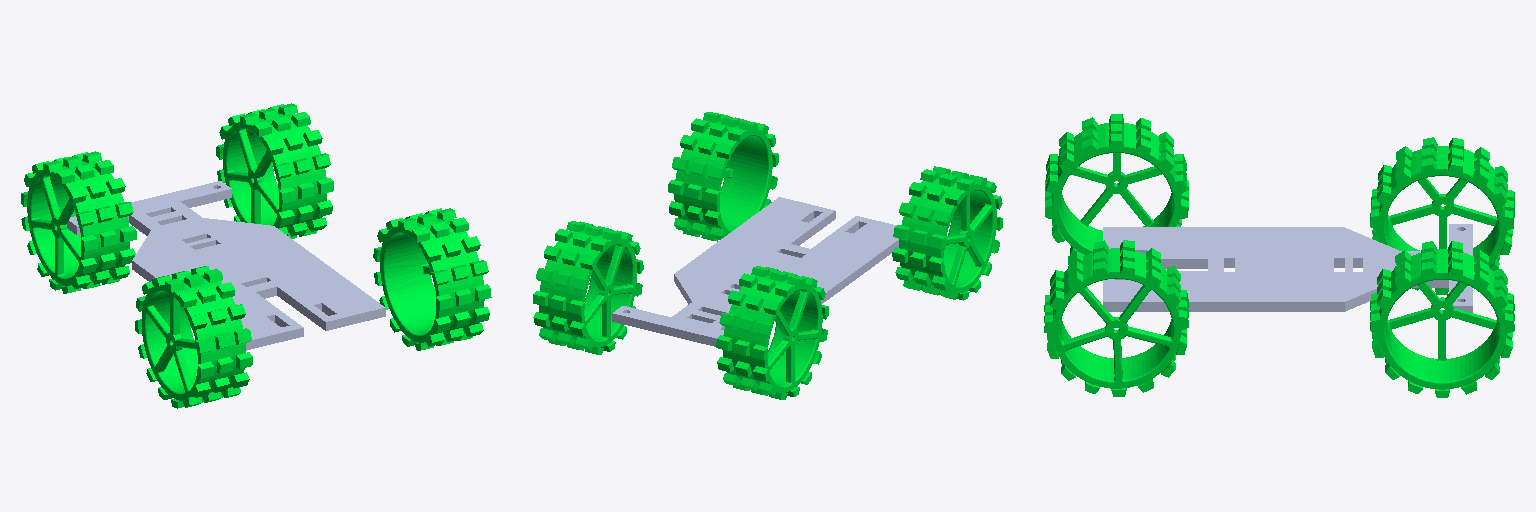
The robot description file, URDF, robot "main_car":
<?xml version="1.0" encoding="utf-8"?>
<!-- This URDF was automatically created by SolidWorks to URDF Exporter! Originally created by Stephen Brawner (brawner@gmail.com) 
     Commit Version: 1.6.0-4-g7f85cfe  Build Version: 1.6.7995.38578
     For more information, please see http://wiki.ros.org/sw_urdf_exporter -->
<robot
  name="main_car">
  <link
    name="base_link">
    <inertial>
      <origin
        xyz="0.0527910074654357 0.0895412065193495 0.0546228756098573"
        rpy="0 0 0" />
      <mass
        value="0.58722731346914" />
      <inertia
        ixx="0.00329941636083391"
        ixy="-3.23221668544828E-08"
        ixz="-3.9626268200619E-10"
        iyy="0.000709920106006346"
        iyz="3.41899882366905E-05"
        izz="0.00286505065874297" />
    </inertial>
    <visual>
      <origin
        xyz="0 0 0"
        rpy="0 0 0" />
      <geometry>
        <mesh
          filename="package://main_car/meshes/base_link.STL" />
      </geometry>
      <material
        name="">
        <color
          rgba="0.792156862745098 0.819607843137255 0.933333333333333 1" />
      </material>
    </visual>
    <collision>
      <origin
        xyz="0 0 0"
        rpy="0 0 0" />
      <geometry>
        <mesh
          filename="package://main_car/meshes/base_link.STL" />
      </geometry>
    </collision>
  </link>
  <link
    name="front_left_wheel_rot">
    <inertial>
      <origin
        xyz="0.0140059336705226 -0.000298132524582467 2.01352007983546E-11"
        rpy="0 0 0" />
      <mass
        value="0.0632357163080549" />
      <inertia
        ixx="9.1908554611613E-05"
        ixy="-8.09825499877721E-07"
        ixz="1.20157582111866E-14"
        iyy="5.3881091035979E-05"
        iyz="2.79976255176767E-14"
        izz="5.38638529333492E-05" />
    </inertial>
    <visual>
      <origin
        xyz="0 0 0"
        rpy="0 0 0" />
      <geometry>
        <mesh
          filename="package://main_car/meshes/front_left_wheel_rot.STL" />
      </geometry>
      <material
        name="">
        <color
          rgba="0 0.96078431372549 0.298039215686275 1" />
      </material>
    </visual>
    <collision>
      <origin
        xyz="0 0 0"
        rpy="0 0 0" />
      <geometry>
        <mesh
          filename="package://main_car/meshes/front_left_wheel_rot.STL" />
      </geometry>
    </collision>
  </link>
  <joint
    name="front_left_wheel_rot_j"
    type="continuous">
    <origin
      xyz="-0.0212429479041969 0.211254558119221 0.0117"
      rpy="0 0 0" />
    <parent
      link="base_link" />
    <child
      link="front_left_wheel_rot" />
    <axis
      xyz="0.999773526729787 -0.0212813357260371 0" />
  </joint>
  <link
    name="front_right_wheel_rot">
    <inertial>
      <origin
        xyz="-0.0140091063539903 3.84884682902431E-07 2.00286228574376E-11"
        rpy="0 0 0" />
      <mass
        value="0.063235716308098" />
      <inertia
        ixx="9.19257926635391E-05"
        ixy="-1.04565885374145E-09"
        ixz="-1.11206332803865E-14"
        iyy="5.38638529486252E-05"
        iyz="2.78948552972781E-14"
        izz="5.3863852984284E-05" />
    </inertial>
    <visual>
      <origin
        xyz="0 0 0"
        rpy="0 0 0" />
      <geometry>
        <mesh
          filename="package://main_car/meshes/front_right_wheel_rot.STL" />
      </geometry>
      <material
        name="">
        <color
          rgba="0 0.96078431372549 0.298039215686275 1" />
      </material>
    </visual>
    <collision>
      <origin
        xyz="0 0 0"
        rpy="0 0 0" />
      <geometry>
        <mesh
          filename="package://main_car/meshes/front_right_wheel_rot.STL" />
      </geometry>
    </collision>
  </link>
  <joint
    name="front_right_wheel_rot_j"
    type="continuous">
    <origin
      xyz="0.131001462865903 0.210751140085241 0.0117"
      rpy="0 0 0" />
    <parent
      link="base_link" />
    <child
      link="front_right_wheel_rot" />
    <axis
      xyz="0.999773526729787 -0.0212813357260373 0" />
  </joint>
  <link
    name="back_right_wheel_rot">
    <inertial>
      <origin
        xyz="-0.0140091063592719 2.58138736081159E-11 2.29399832463173E-12"
        rpy="0 0 0" />
      <mass
        value="0.0632357163080608" />
      <inertia
        ixx="9.19257927908156E-05"
        ixy="-2.17957699494684E-14"
        ixz="3.00941144706054E-15"
        iyy="5.38638530150891E-05"
        iyz="3.81958524520263E-15"
        izz="5.38638529876316E-05" />
    </inertial>
    <visual>
      <origin
        xyz="0 0 0"
        rpy="0 0 0" />
      <geometry>
        <mesh
          filename="package://main_car/meshes/back_right_wheel_rot.STL" />
      </geometry>
      <material
        name="">
        <color
          rgba="0 0.96078431372549 0.298039215686275 1" />
      </material>
    </visual>
    <collision>
      <origin
        xyz="0 0 0"
        rpy="0 0 0" />
      <geometry>
        <mesh
          filename="package://main_car/meshes/back_right_wheel_rot.STL" />
      </geometry>
    </collision>
  </link>
  <joint
    name="back_right_wheel_rot_j"
    type="continuous">
    <origin
      xyz="0.166149999999796 0.00849999999999998 0.0147"
      rpy="0 0 0" />
    <parent
      link="base_link" />
    <child
      link="back_right_wheel_rot" />
    <axis
      xyz="1 0 0" />
  </joint>
  <link
    name="back_left_wheel_rot">
    <inertial>
      <origin
        xyz="0.0140091063592776 2.88698388112296E-11 -1.99776098441795E-11"
        rpy="0 0 0" />
      <mass
        value="0.0632357163080669" />
      <inertia
        ixx="9.19257927875312E-05"
        ixy="2.78834430123702E-14"
        ixz="-1.11056897698667E-14"
        iyy="5.38638529869603E-05"
        iyz="-1.47196585190975E-17"
        izz="5.38638530124792E-05" />
    </inertial>
    <visual>
      <origin
        xyz="0 0 0"
        rpy="0 0 0" />
      <geometry>
        <mesh
          filename="package://main_car/meshes/back_left_wheel_rot.STL" />
      </geometry>
      <material
        name="">
        <color
          rgba="0 0.96078431372549 0.298039215686275 1" />
      </material>
    </visual>
    <collision>
      <origin
        xyz="0 0 0"
        rpy="0 0 0" />
      <geometry>
        <mesh
          filename="package://main_car/meshes/back_left_wheel_rot.STL" />
      </geometry>
    </collision>
  </link>
  <joint
    name="back_left_wheel_rot_j"
    type="continuous">
    <origin
      xyz="-0.0488500000002041 0.00849999999999978 0.0147000000000001"
      rpy="0 0 0" />
    <parent
      link="base_link" />
    <child
      link="back_left_wheel_rot" />
    <axis
      xyz="1 0 0" />
  </joint>
  <link
    name="front_left_wheel_steer">
    <inertial>
      <origin
        xyz="0.0140059336705226 -0.00029813252458244 2.01352007983546E-11"
        rpy="0 0 0" />
      <mass
        value="0.0632357163080549" />
      <inertia
        ixx="9.1908554611613E-05"
        ixy="-8.09825499877721E-07"
        ixz="1.20157593081703E-14"
        iyy="5.3881091035979E-05"
        iyz="2.79976252822301E-14"
        izz="5.38638529333492E-05" />
    </inertial>
    <visual>
      <origin
        xyz="0 0 0"
        rpy="0 0 0" />
      <geometry>
        <mesh
          filename="package://main_car/meshes/front_left_wheel_steer.STL" />
      </geometry>
      <material
        name="">
        <color
          rgba="0 0.96078431372549 0.298039215686275 1" />
      </material>
    </visual>
    <collision>
      <origin
        xyz="0 0 0"
        rpy="0 0 0" />
      <geometry>
        <mesh
          filename="package://main_car/meshes/front_left_wheel_steer.STL" />
      </geometry>
    </collision>
  </link>
  <joint
    name="front_left_wheel_steer_j"
    type="revolute">
    <origin
      xyz="-0.0212429479041969 0.211254558119221 0.0117"
      rpy="0 0 0" />
    <parent
      link="base_link" />
    <child
      link="front_left_wheel_steer" />
    <axis
      xyz="0 0 -1" />
    <limit
      lower="5.6723"
      upper="0.61087"
      effort="0"
      velocity="0.5" />
  </joint>
  <link
    name="front_right_wheel_steer">
    <inertial>
      <origin
        xyz="-0.0140091063539903 3.84884682902431E-07 2.00286228574376E-11"
        rpy="0 0 0" />
      <mass
        value="0.063235716308098" />
      <inertia
        ixx="9.19257926635391E-05"
        ixy="-1.0456588537411E-09"
        ixz="-1.11206335986572E-14"
        iyy="5.38638529486252E-05"
        iyz="2.78948558002588E-14"
        izz="5.3863852984284E-05" />
    </inertial>
    <visual>
      <origin
        xyz="0 0 0"
        rpy="0 0 0" />
      <geometry>
        <mesh
          filename="package://main_car/meshes/front_right_wheel_steer.STL" />
      </geometry>
      <material
        name="">
        <color
          rgba="0 0.96078431372549 0.298039215686275 1" />
      </material>
    </visual>
    <collision>
      <origin
        xyz="0 0 0"
        rpy="0 0 0" />
      <geometry>
        <mesh
          filename="package://main_car/meshes/front_right_wheel_steer.STL" />
      </geometry>
    </collision>
  </link>
  <joint
    name="front_right_wheel_steer_j"
    type="revolute">
    <origin
      xyz="0.131001462865903 0.210751140085241 0.0117"
      rpy="0 0 0" />
    <parent
      link="base_link" />
    <child
      link="front_right_wheel_steer" />
    <axis
      xyz="0 0 -1" />
    <limit
      lower="5.6723"
      upper="0.61087"
      effort="0"
      velocity="0.5" />
  </joint>
</robot>

--- Facts derived from the render (not from the file) ---
Views: 3 orthographic renders of the robot side by side, from view 1: azimuth 30°, elevation 25°; view 2: azimuth 150°, elevation 25°; view 3: azimuth 270°, elevation 25°.
Robot: main_car — 7 links, 6 joints (2 revolute, 4 continuous); root link base_link; default pose: all joints at 0 but 2 set to mid-range because 0 is outside their limits (front_left_wheel_steer_j = 3.14, front_right_wheel_steer_j = 3.14).
Links seen in each view (by area): view 1: base_link, back_left_wheel_rot, back_right_wheel_rot, front_left_wheel_rot, front_right_wheel_steer; view 2: base_link, front_left_wheel_rot, back_left_wheel_rot, front_right_wheel_steer, back_right_wheel_rot; view 3: base_link, front_right_wheel_steer, back_right_wheel_rot, back_left_wheel_rot, front_left_wheel_rot.
Boxes of the visible links, x1,y1,x2,y2 form: base_link: (67, 181, 385, 350); back_left_wheel_rot: (135, 266, 252, 408); back_right_wheel_rot: (373, 208, 491, 350); front_left_wheel_rot: (21, 151, 136, 293); front_right_wheel_steer: (216, 103, 333, 238); base_link: (612, 197, 898, 346); front_left_wheel_rot: (716, 266, 828, 399); back_left_wheel_rot: (892, 166, 1002, 300); front_right_wheel_steer: (533, 221, 643, 354); back_right_wheel_rot: (668, 112, 778, 241); base_link: (1103, 224, 1472, 312); front_right_wheel_steer: (1370, 241, 1514, 397); back_right_wheel_rot: (1044, 240, 1188, 396); back_left_wheel_rot: (1045, 114, 1188, 256); front_left_wheel_rot: (1370, 137, 1514, 294).
Bounding box of the posed robot: 0.225 × 0.2925 × 0.0924 m (x, y, z).
5 mesh visuals loaded from 7 distinct referenced files (5 binary STL); not drawn: 2 (reference not matched to a file when rendering).
